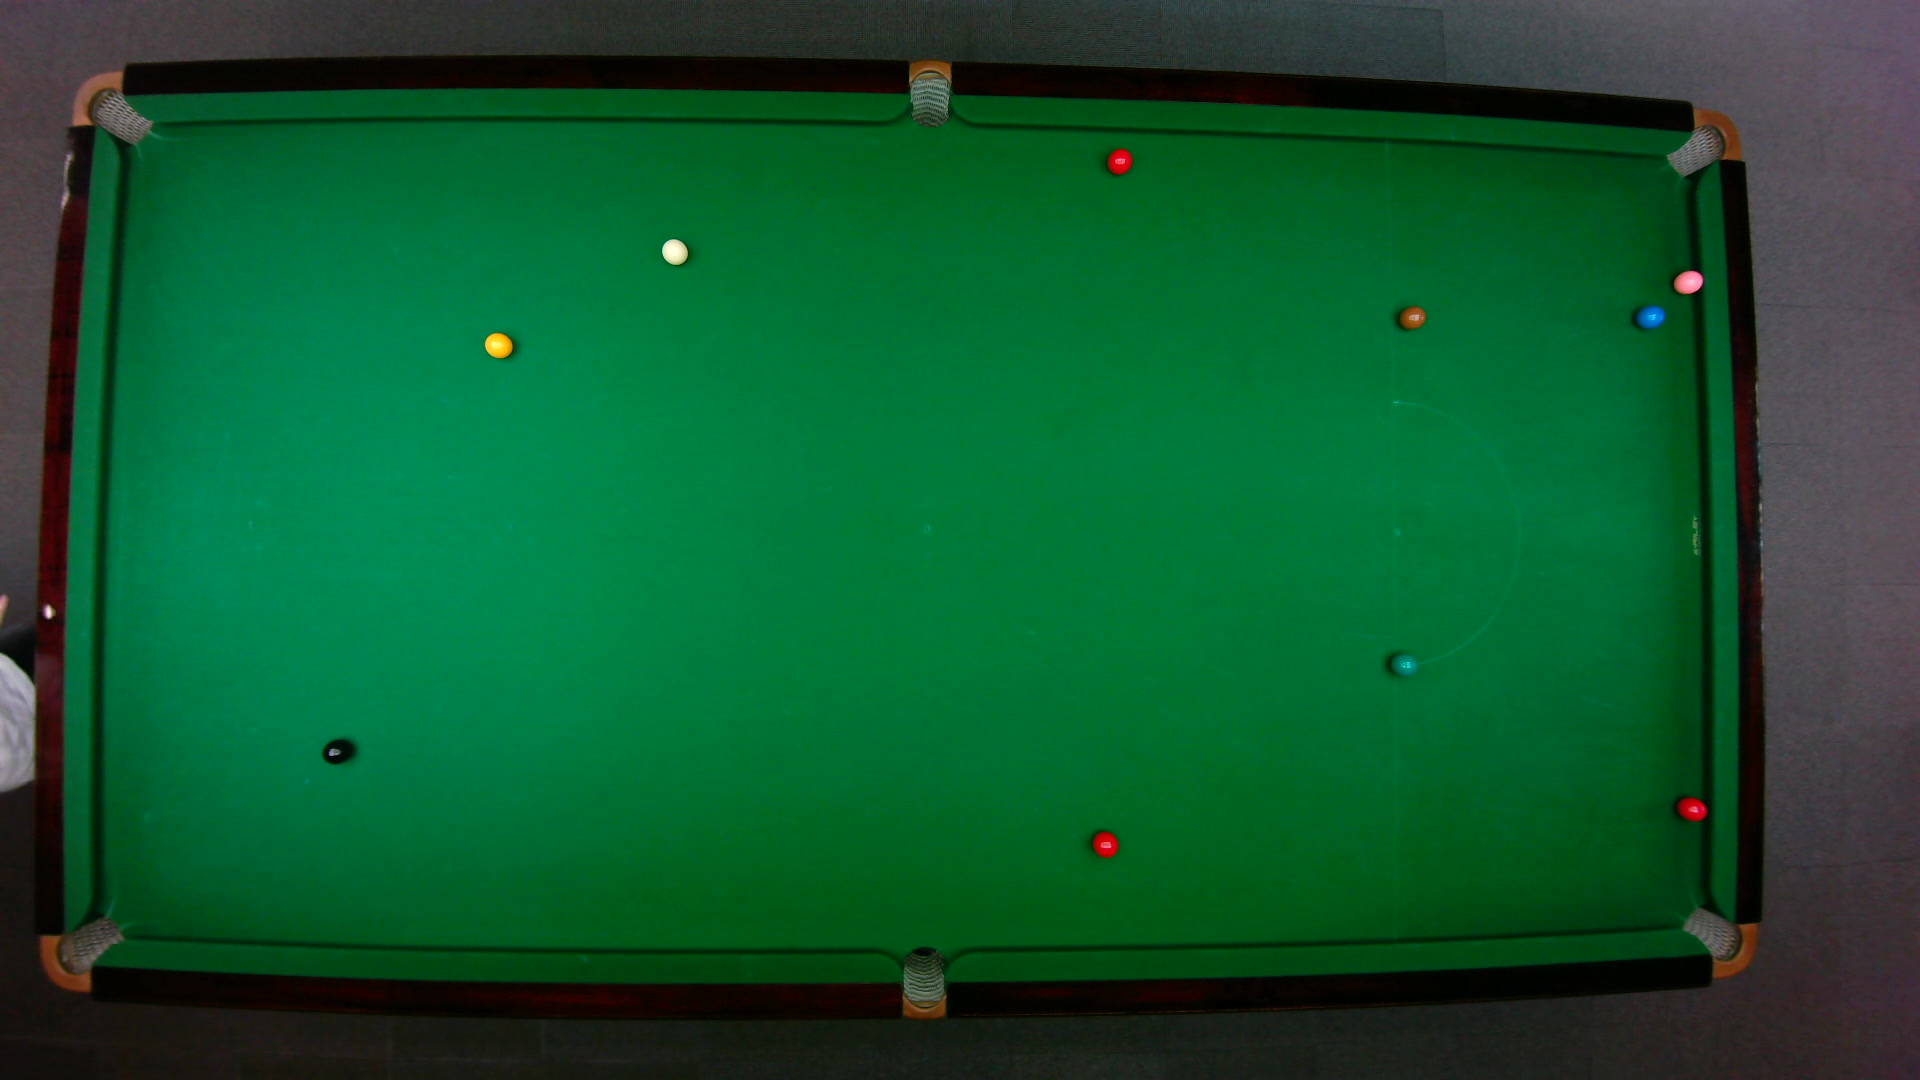bag: (37, 913, 125, 992), (69, 69, 153, 145), (1677, 905, 1758, 978), (1663, 107, 1742, 177), (901, 944, 944, 1021), (909, 57, 949, 128)
black: (320, 736, 352, 765)
blue: (1634, 303, 1665, 328)
brown: (1396, 305, 1427, 328)
green: (1387, 649, 1418, 676)
pink: (1669, 266, 1704, 295)
red: (1089, 828, 1120, 858), (1673, 795, 1708, 822), (1104, 146, 1133, 175)
white: (659, 236, 688, 265)
yellow: (483, 328, 514, 359)
zone: (1389, 398, 1519, 669)
